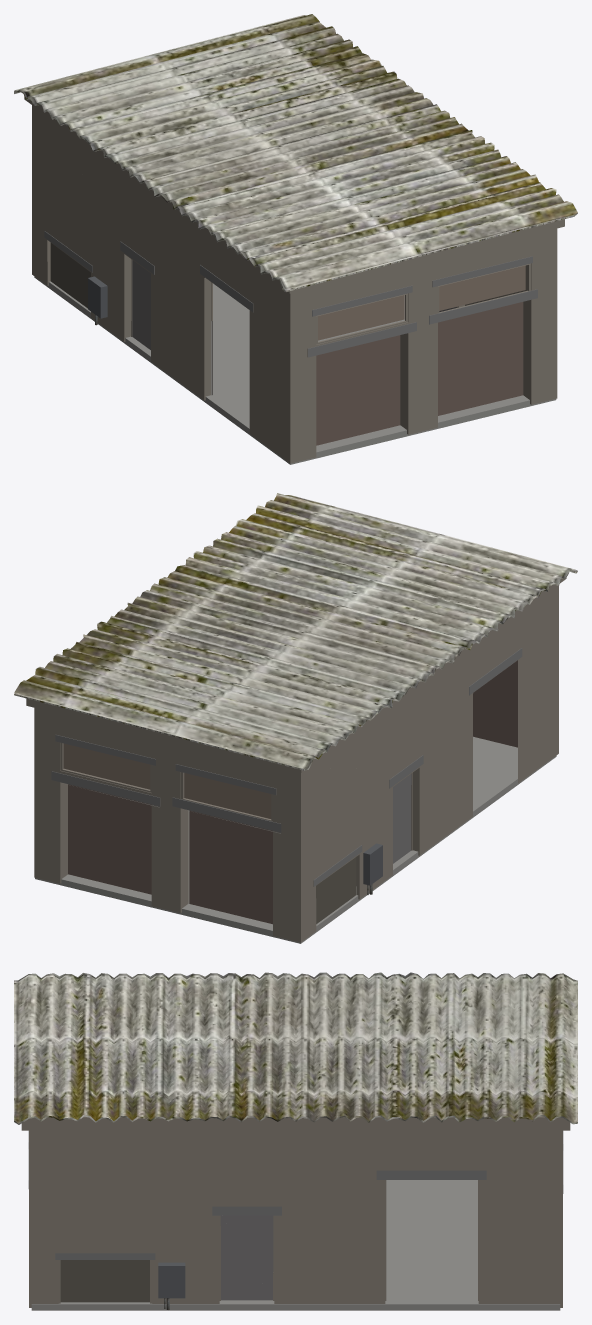
The model's file is garage.zfix-v14.lod0.glb.
The picture shows the model from 3 angles, top to bottom: view 1: azimuth 30°, elevation 25°; view 2: azimuth 150°, elevation 25°; view 3: azimuth 270°, elevation 25°; orthographic projection. The views are drawn at different scales.
Visible parts, largest first — view 1: Box001_Material #2100603827_0, Box001_Material #2100603824_0; view 2: Box001_Material #2100603827_0, Box001_Material #2100603824_0; view 3: Box001_Material #2100603827_0, Box001_Material #2100603824_0.
Boxes of the visible parts, x1,y1,x2,y2 form: Box001_Material #2100603827_0: (24,96,564,464); Box001_Material #2100603824_0: (14,14,577,291); Box001_Material #2100603827_0: (26,577,566,943); Box001_Material #2100603824_0: (14,493,577,770); Box001_Material #2100603827_0: (21,1116,570,1310); Box001_Material #2100603824_0: (14,972,577,1124).
Size of the model in its own units: 5.07 by 3.15 by 8.
3 materials, 2 textured.
